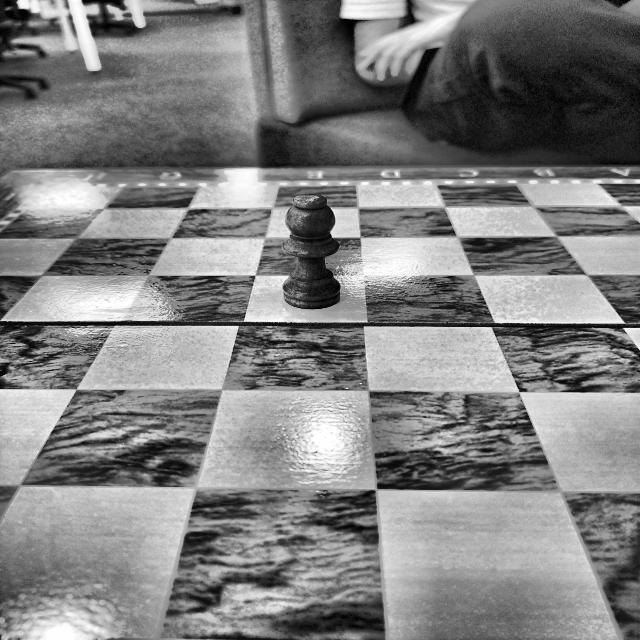black-bishop: (280, 195, 342, 308)
